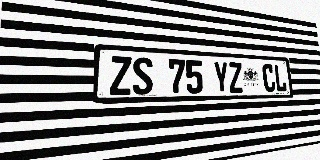5: (185, 60, 203, 94)
7: (167, 59, 186, 94)
C: (262, 64, 276, 92)
L: (274, 64, 287, 92)
S: (132, 57, 153, 95)
Y: (213, 61, 229, 93)
Z: (110, 56, 132, 95), (228, 62, 244, 93)
